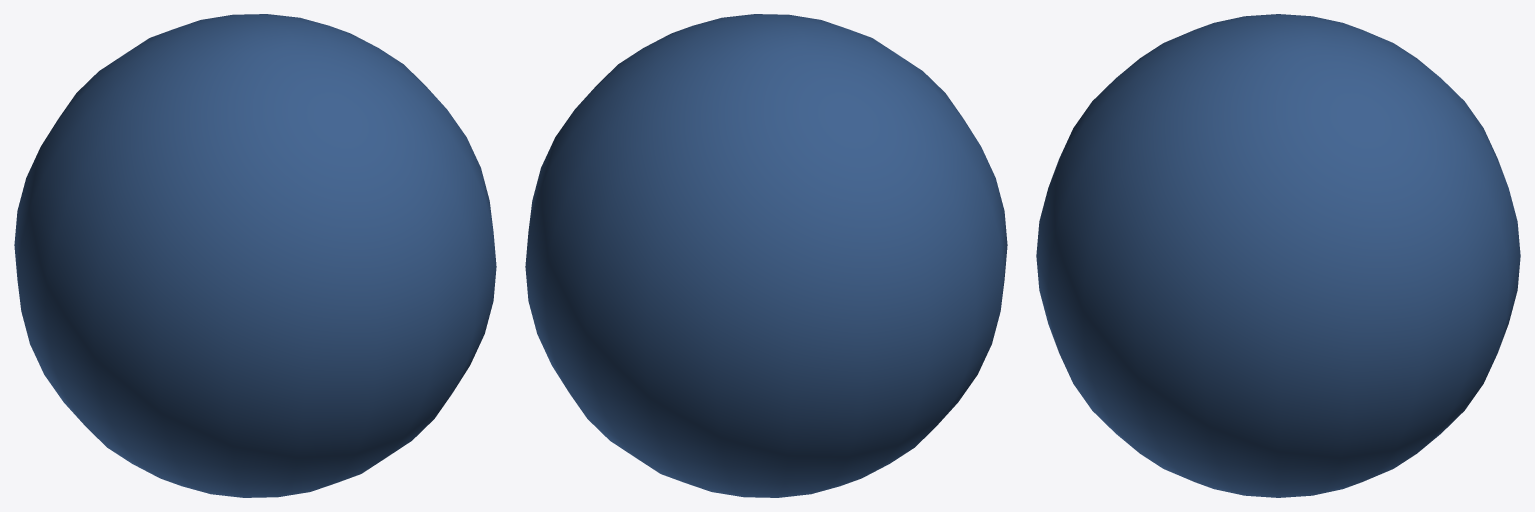
Rendered from Roller_Prototype_1A.fbx.
The picture shows the model from 3 angles, left to right: view 1: azimuth 30°, elevation 25°; view 2: azimuth 150°, elevation 25°; view 3: azimuth 270°, elevation 25°; orthographic projection.
Parts seen in each view (by area): view 1: OuterShell; view 2: OuterShell; view 3: OuterShell.
Boxes of the visible parts, x1=… form: OuterShell: x1=14, y1=14, x2=496, y2=497; OuterShell: x1=525, y1=14, x2=1007, y2=497; OuterShell: x1=1036, y1=14, x2=1520, y2=497.
Bounding box in the file's own units: 3 × 3 × 3.
